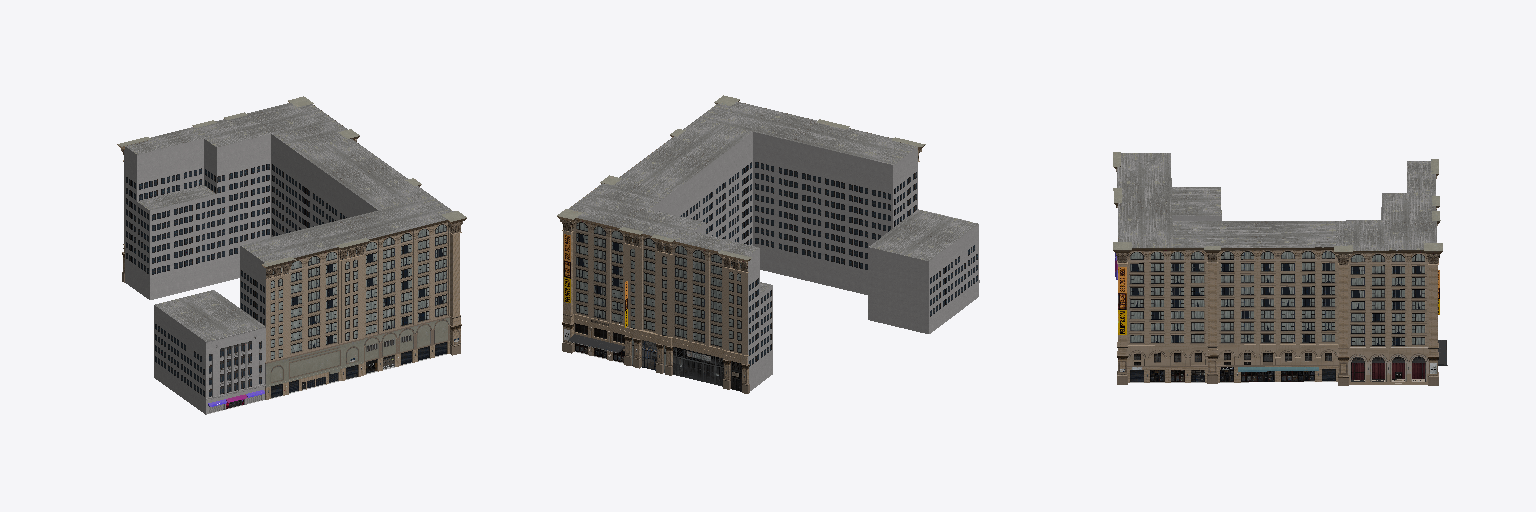
The picture shows the model from 3 angles: view 1: azimuth 30°, elevation 25°; view 2: azimuth 150°, elevation 25°; view 3: azimuth 270°, elevation 25°; orthographic projection.
Visible parts, largest first — view 1: Object_152.002; view 2: Object_152.002; view 3: Object_152.002.
Boxes of the visible parts, <box> form: Object_152.002: <box>117,96,466,414</box>; Object_152.002: <box>557,95,979,393</box>; Object_152.002: <box>1113,152,1447,385</box>.
Bounding box in the file's own units: 26.06 × 12.91 × 28.73.
2 materials, 2 textured.